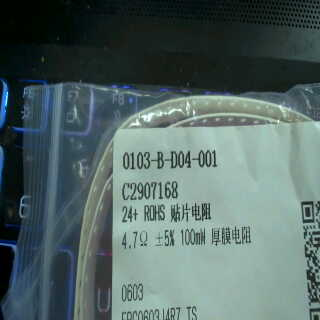4.7R: (117, 227, 150, 255)
